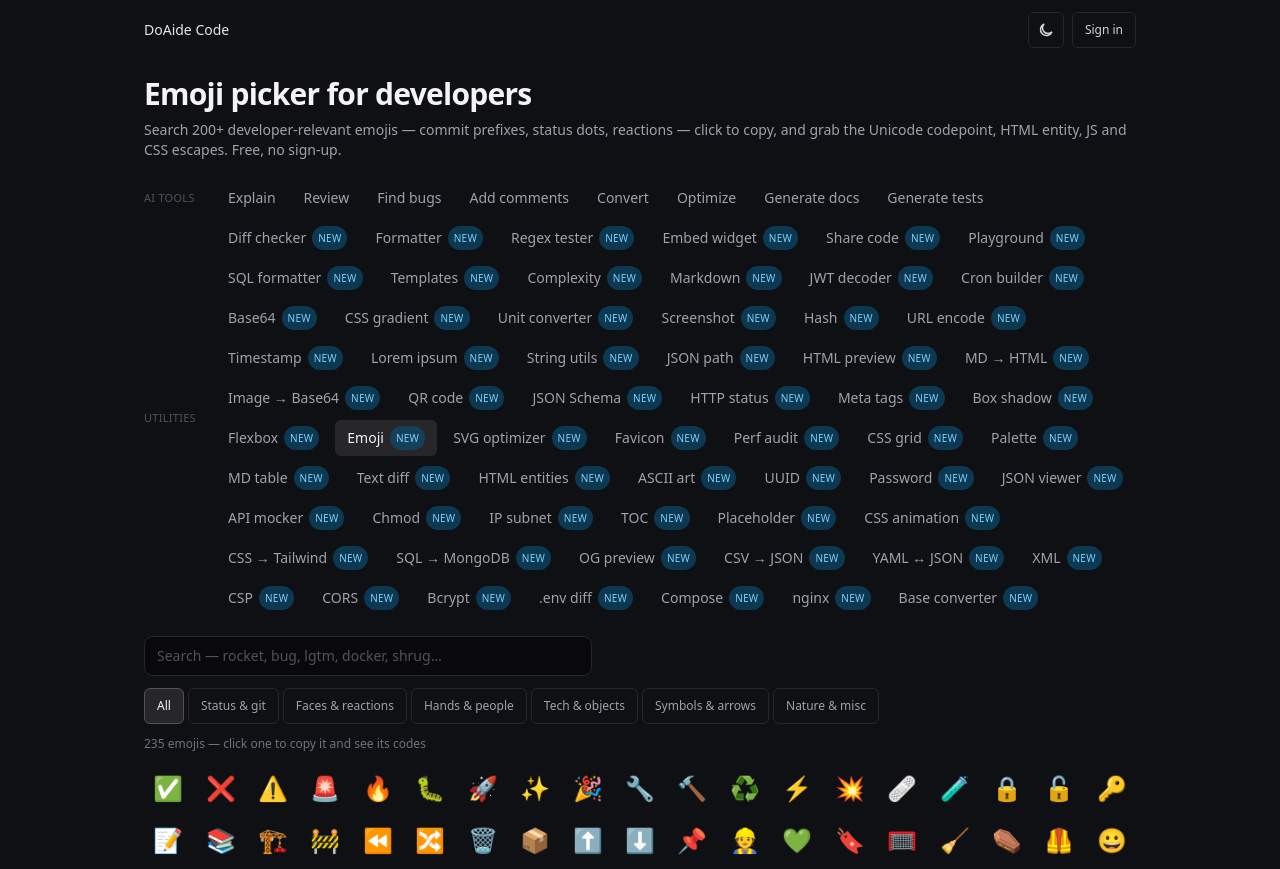
Test: EmojiPage › says so when nothing matches
In the search field with test id "emoji-search": (368, 656) [144, 636, 592, 676], type "zzzznothing"
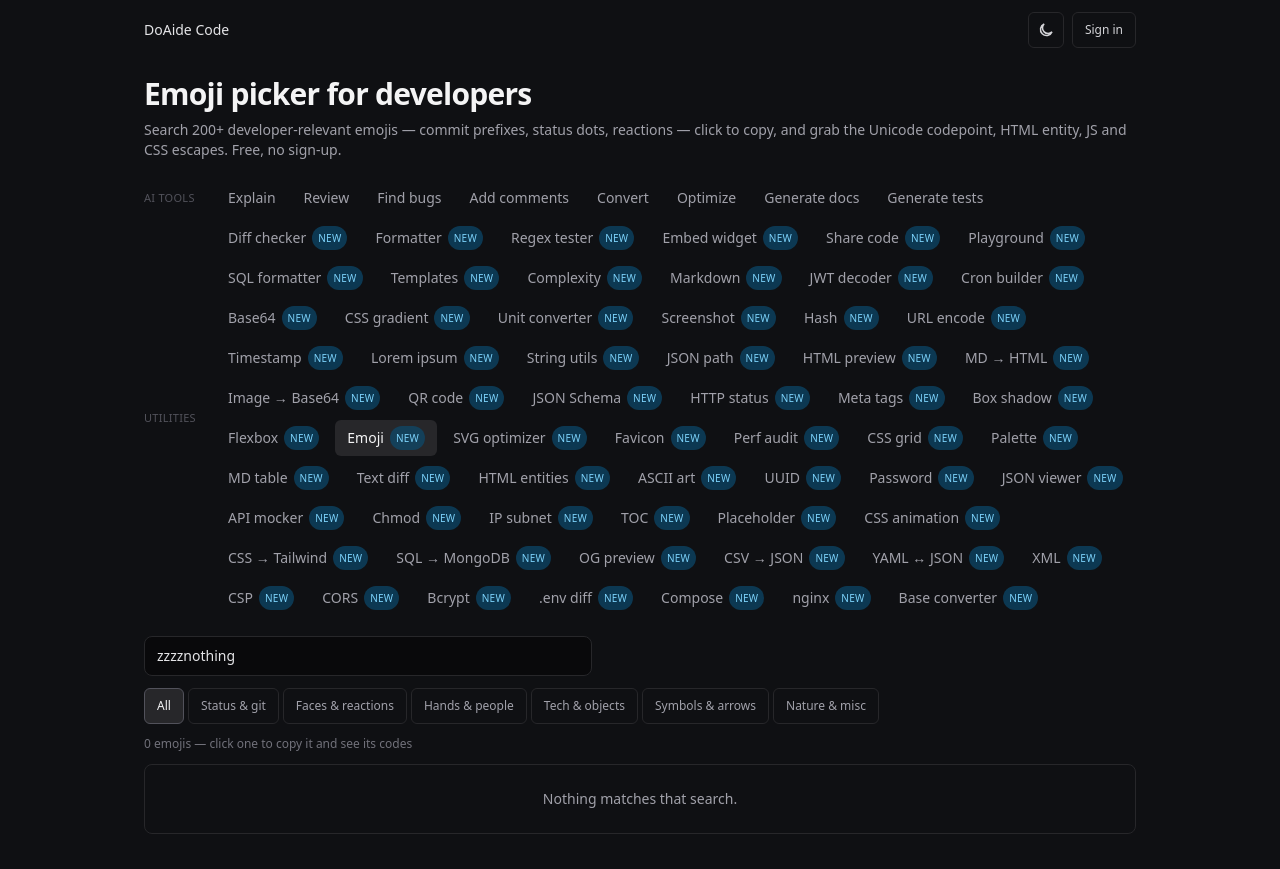
Now the text "Nothing matches that search." is shown, box [144, 764, 1136, 834]
